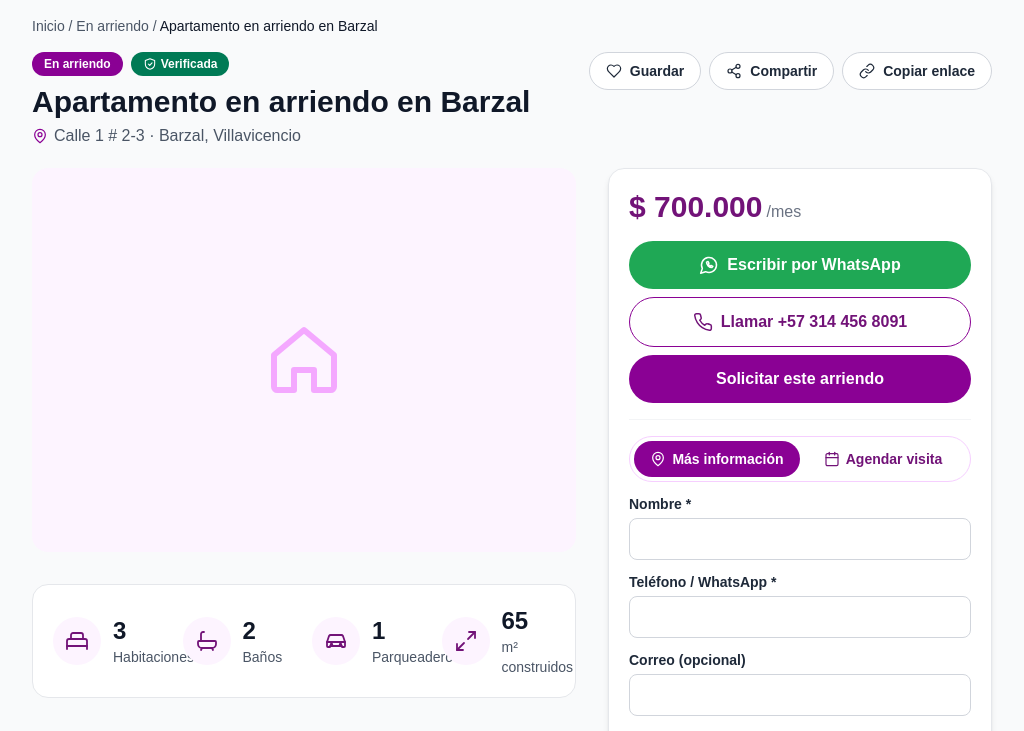
Test: ficha del inmueble › el formulario exige autorizar los datos y envia la consulta a la API
Type "Ana Gómez" into the field labelled "Nombre *" at (800, 539), box [629, 518, 971, 560]
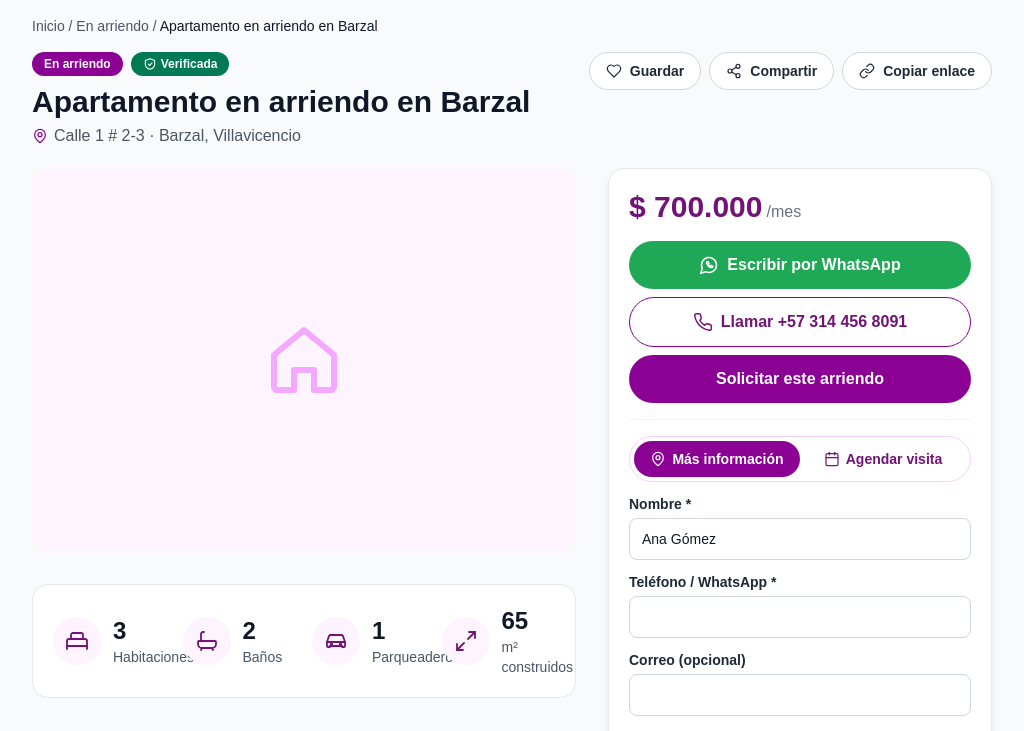
Type "3001112233" into the field labelled "Teléfono / WhatsApp *" at (800, 617), box [629, 596, 971, 638]
(page scrolled)
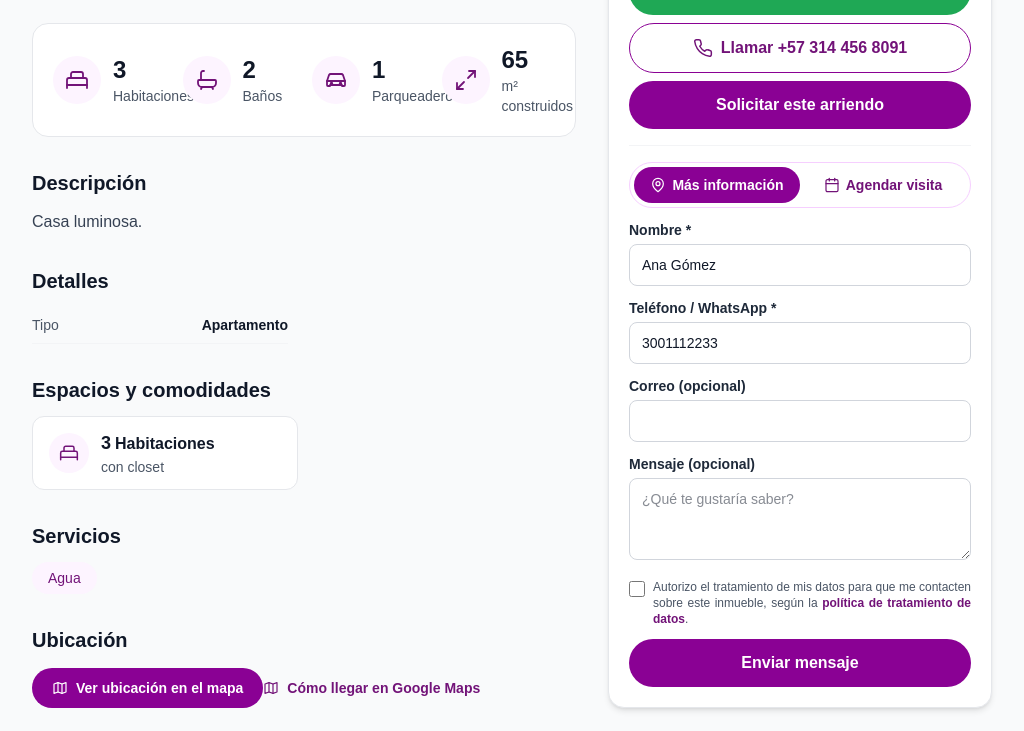
Click the button "Enviar mensaje" at (800, 663), box [629, 639, 971, 687]
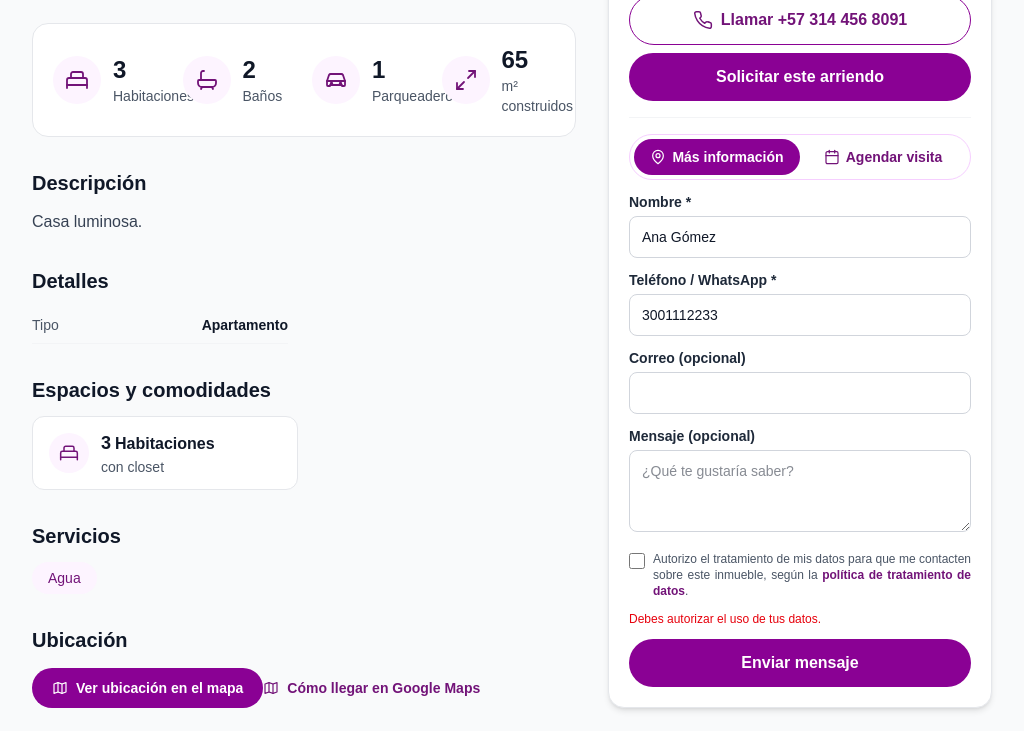
Check: the text "Debes autorizar el uso de tus datos." is shown, box [629, 612, 821, 626]
Click the checkbox at (637, 561), box [629, 553, 645, 569]
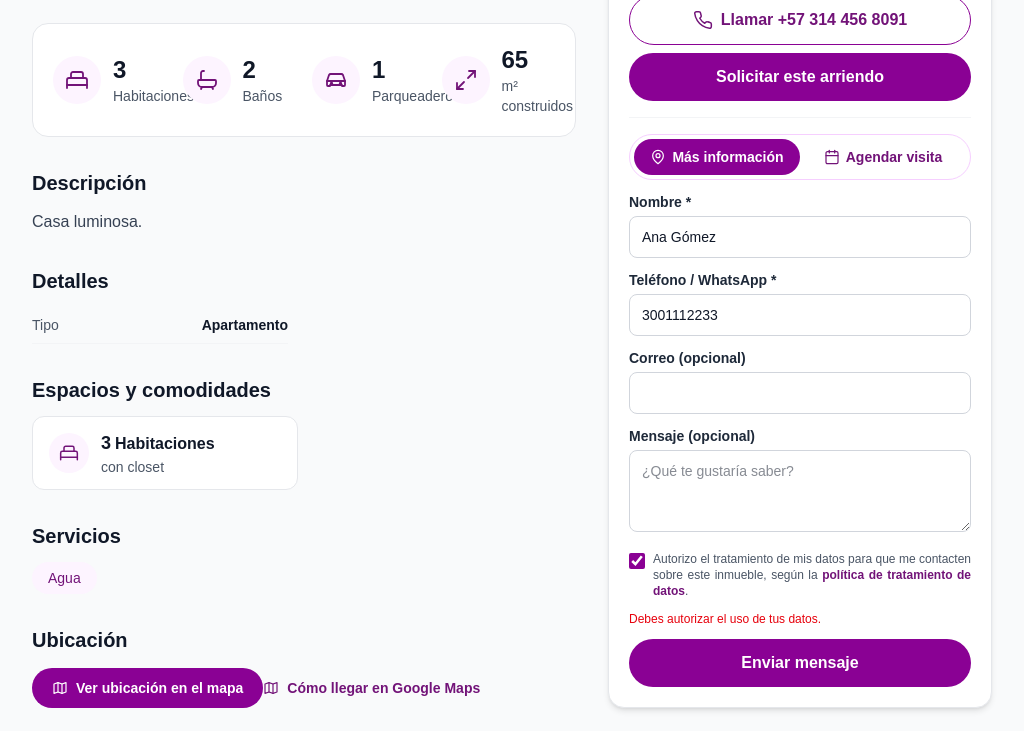
Click the button "Enviar mensaje" at (800, 663), box [629, 639, 971, 687]
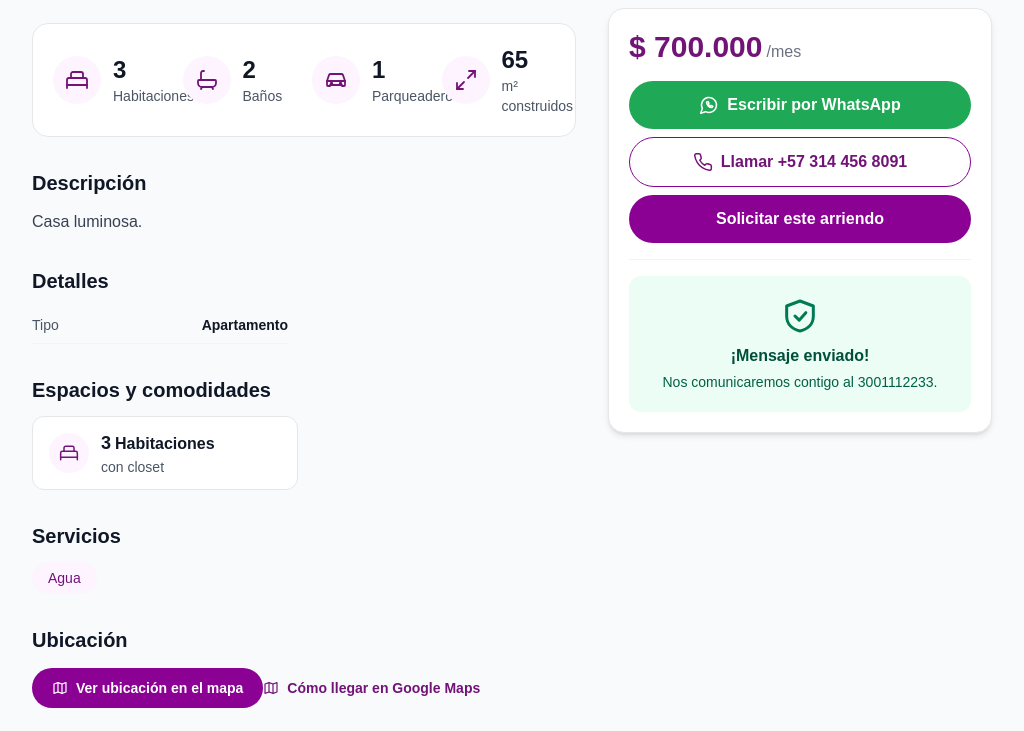
Check: the text "¡Mensaje enviado!" is shown, box [731, 347, 869, 364]
